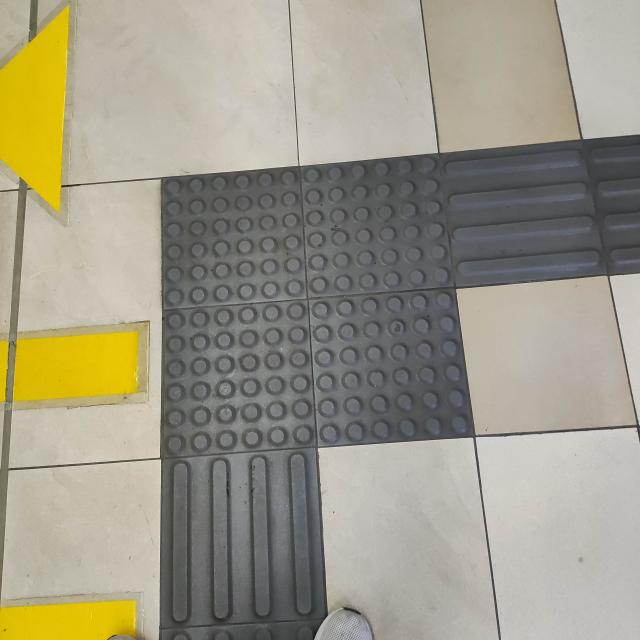kanan: (77, 111, 640, 501)
